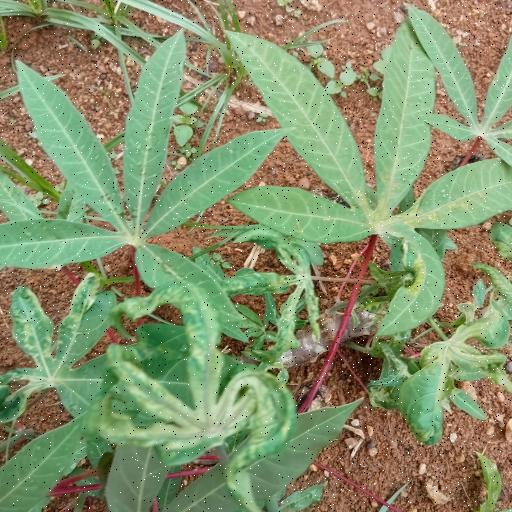Cassava_Mosaic: (234, 16, 512, 335), (0, 34, 273, 314), (100, 276, 295, 471), (0, 266, 105, 422), (406, 292, 510, 449)
